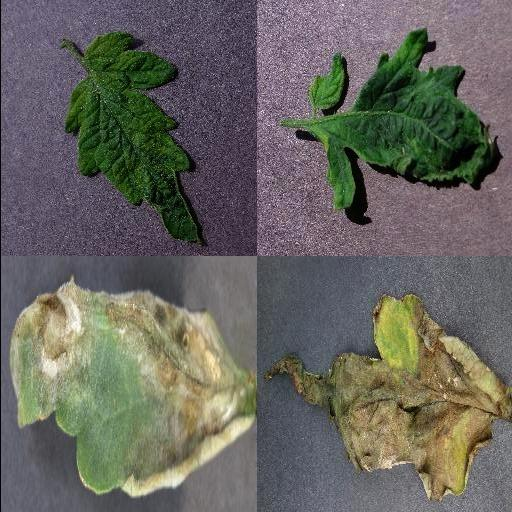Late Blight: (8, 276, 256, 499), (262, 290, 512, 502)
Mosaic Virus: (312, 29, 494, 211), (62, 29, 204, 247)
